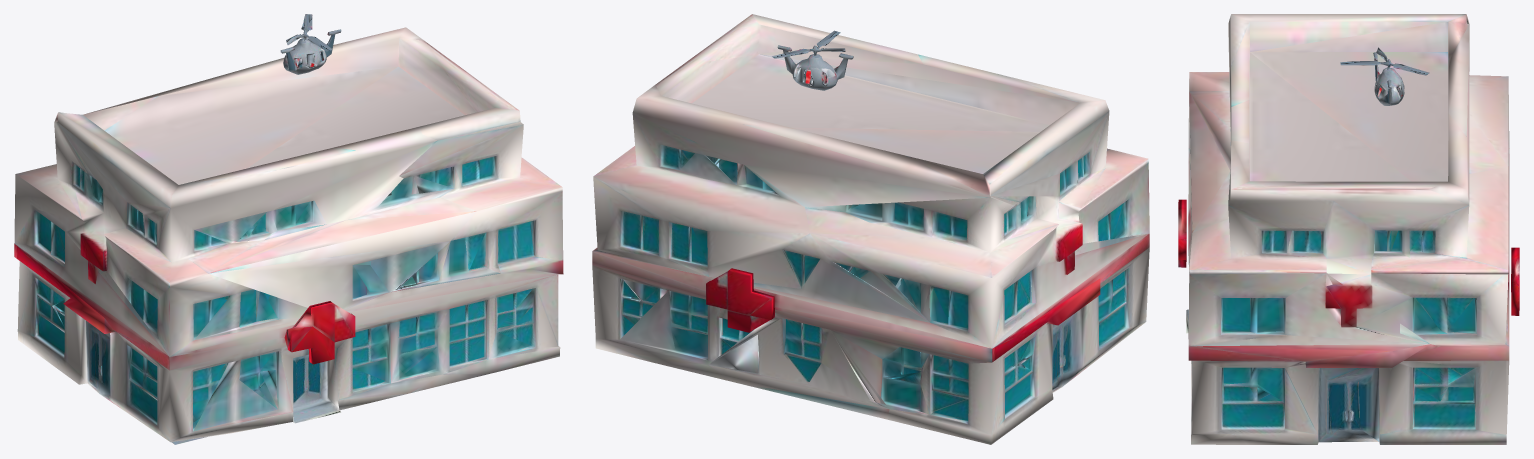
File: hospital-512.glb
3 renders of one model, left to right at view 1: azimuth 30°, elevation 25°; view 2: azimuth 150°, elevation 25°; view 3: azimuth 270°, elevation 25°, orthographic. The views are drawn at different scales.
Bounding box in the file's own units: 1.9 × 1.31 × 1.32.
Materials: 1 (1 with a texture image).
